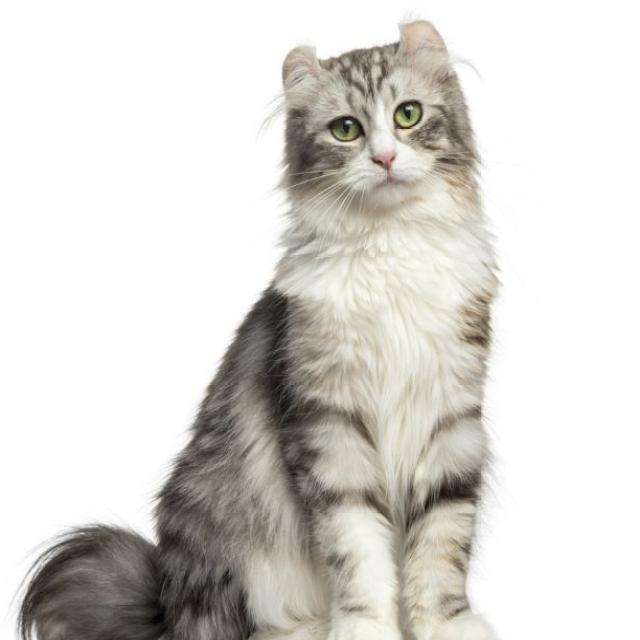American Curl: (13, 12, 506, 640)
